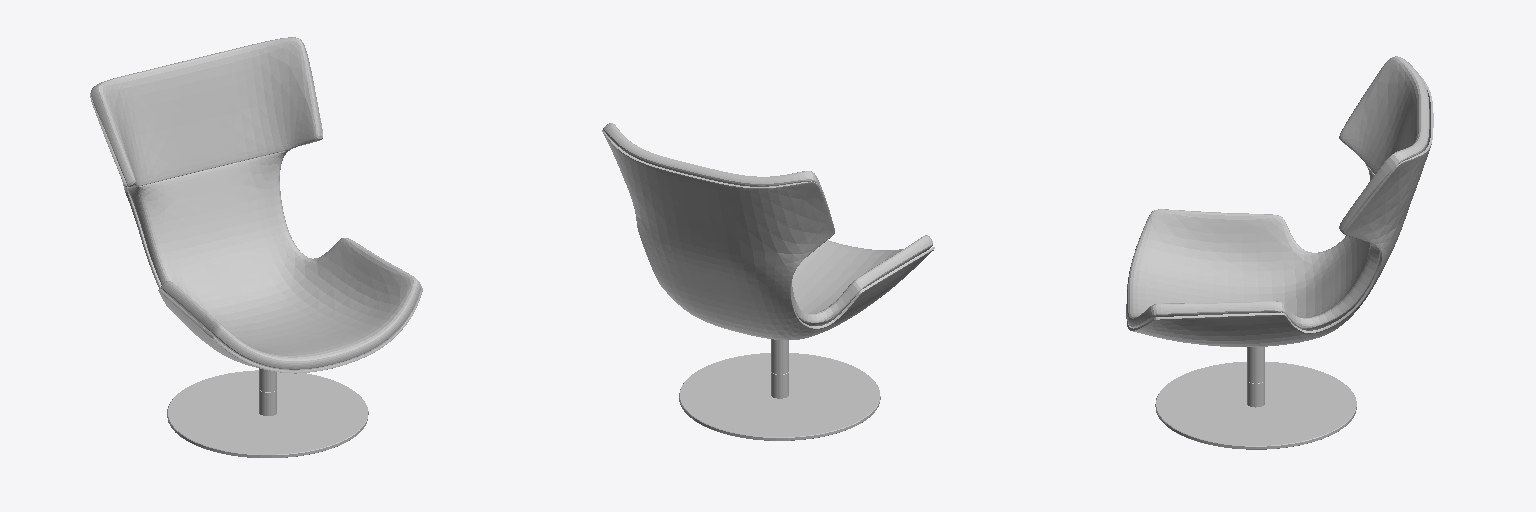
The model's file is armchair 009.obj.
3 renders of one model, left to right at view 1: azimuth 30°, elevation 25°; view 2: azimuth 150°, elevation 25°; view 3: azimuth 270°, elevation 25°, orthographic.
Parts seen in each view (by area): view 1: obj_02, obj_03, obj_01, obj_04; view 2: obj_01, obj_03, obj_02, obj_04; view 3: obj_02, obj_03, obj_01, obj_04.
Boxes of the visible parts, box(x1,y1,x2,y2) form: obj_02: box(91, 37, 420, 369); obj_03: box(167, 370, 368, 457); obj_01: box(90, 93, 422, 373); obj_04: box(259, 368, 276, 415); obj_01: box(602, 130, 934, 339); obj_03: box(679, 353, 880, 440); obj_02: box(603, 123, 932, 325); obj_04: box(771, 339, 788, 398); obj_02: box(1127, 56, 1429, 330); obj_03: box(1155, 362, 1356, 449); obj_01: box(1126, 73, 1433, 346); obj_04: box(1247, 347, 1264, 407).
Size of the model in its own units: 27.25 by 36.78 by 33.8.